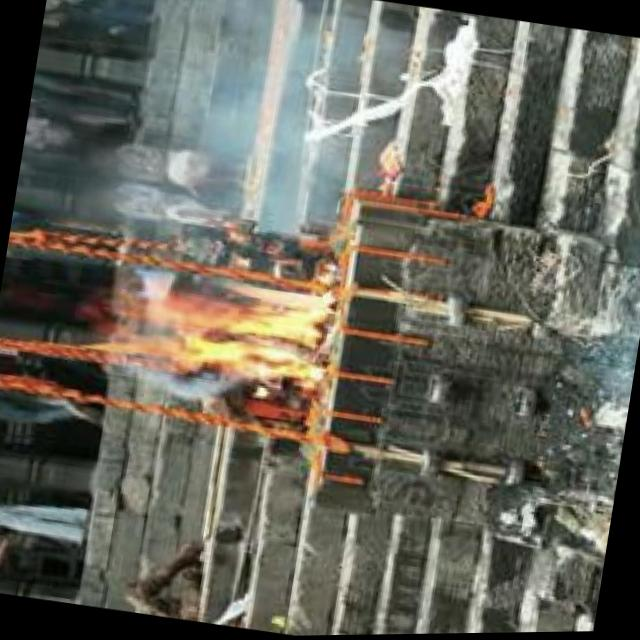Fire: (120, 260, 342, 397)
